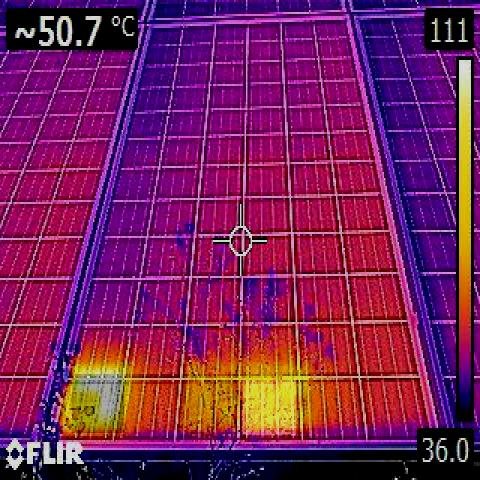fault: (182, 379, 235, 438), (242, 380, 296, 435), (72, 378, 125, 433)
